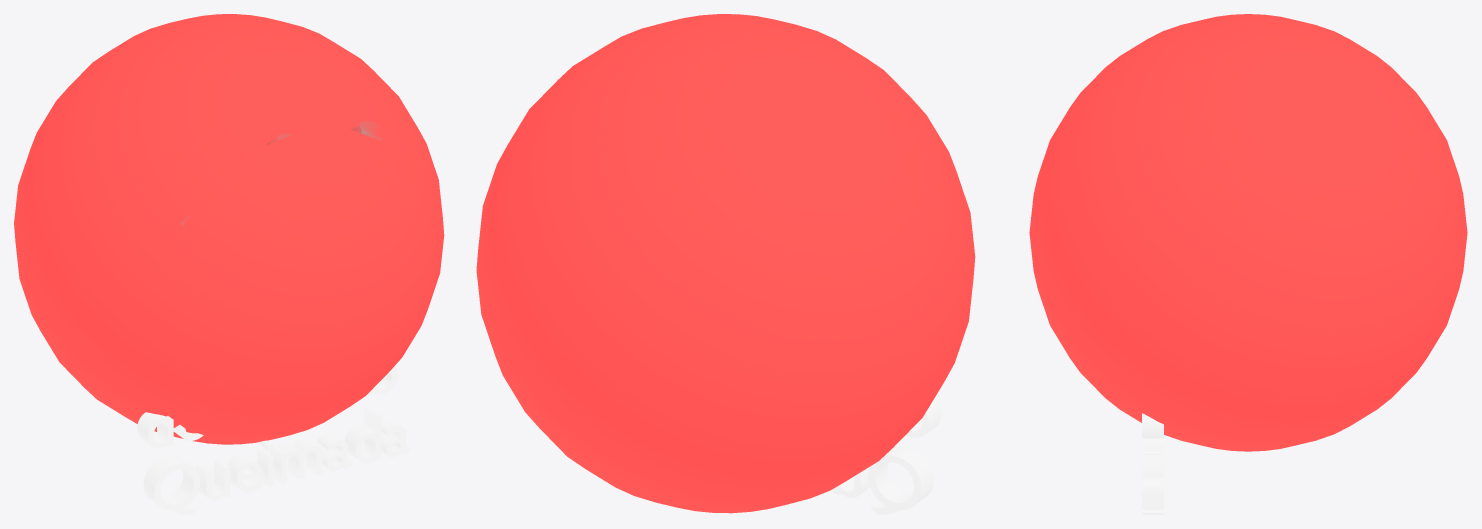
File: vela-de-ignicao-queimada.glb
3 views of the same model, side by side, from view 1: azimuth 30°, elevation 25°; view 2: azimuth 150°, elevation 25°; view 3: azimuth 270°, elevation 25° (orthographic). The views are drawn at different scales.
Parts seen in each view (by area): view 1: Sphere.028, Text.029; view 2: Sphere.028, Text.029; view 3: Sphere.028, Text.029.
Part boxes in pixels (box(x1,y1,x2,y2)): Sphere.028: box(14, 14, 444, 444); Text.029: box(137, 366, 410, 514); Sphere.028: box(476, 14, 975, 513); Text.029: box(833, 398, 941, 514); Sphere.028: box(1029, 14, 1467, 451); Text.029: box(1142, 413, 1163, 514).
Bounding box in the file's own units: 5.15 × 5.55 × 5.15.
Materials: 5 (1 with a texture image).
